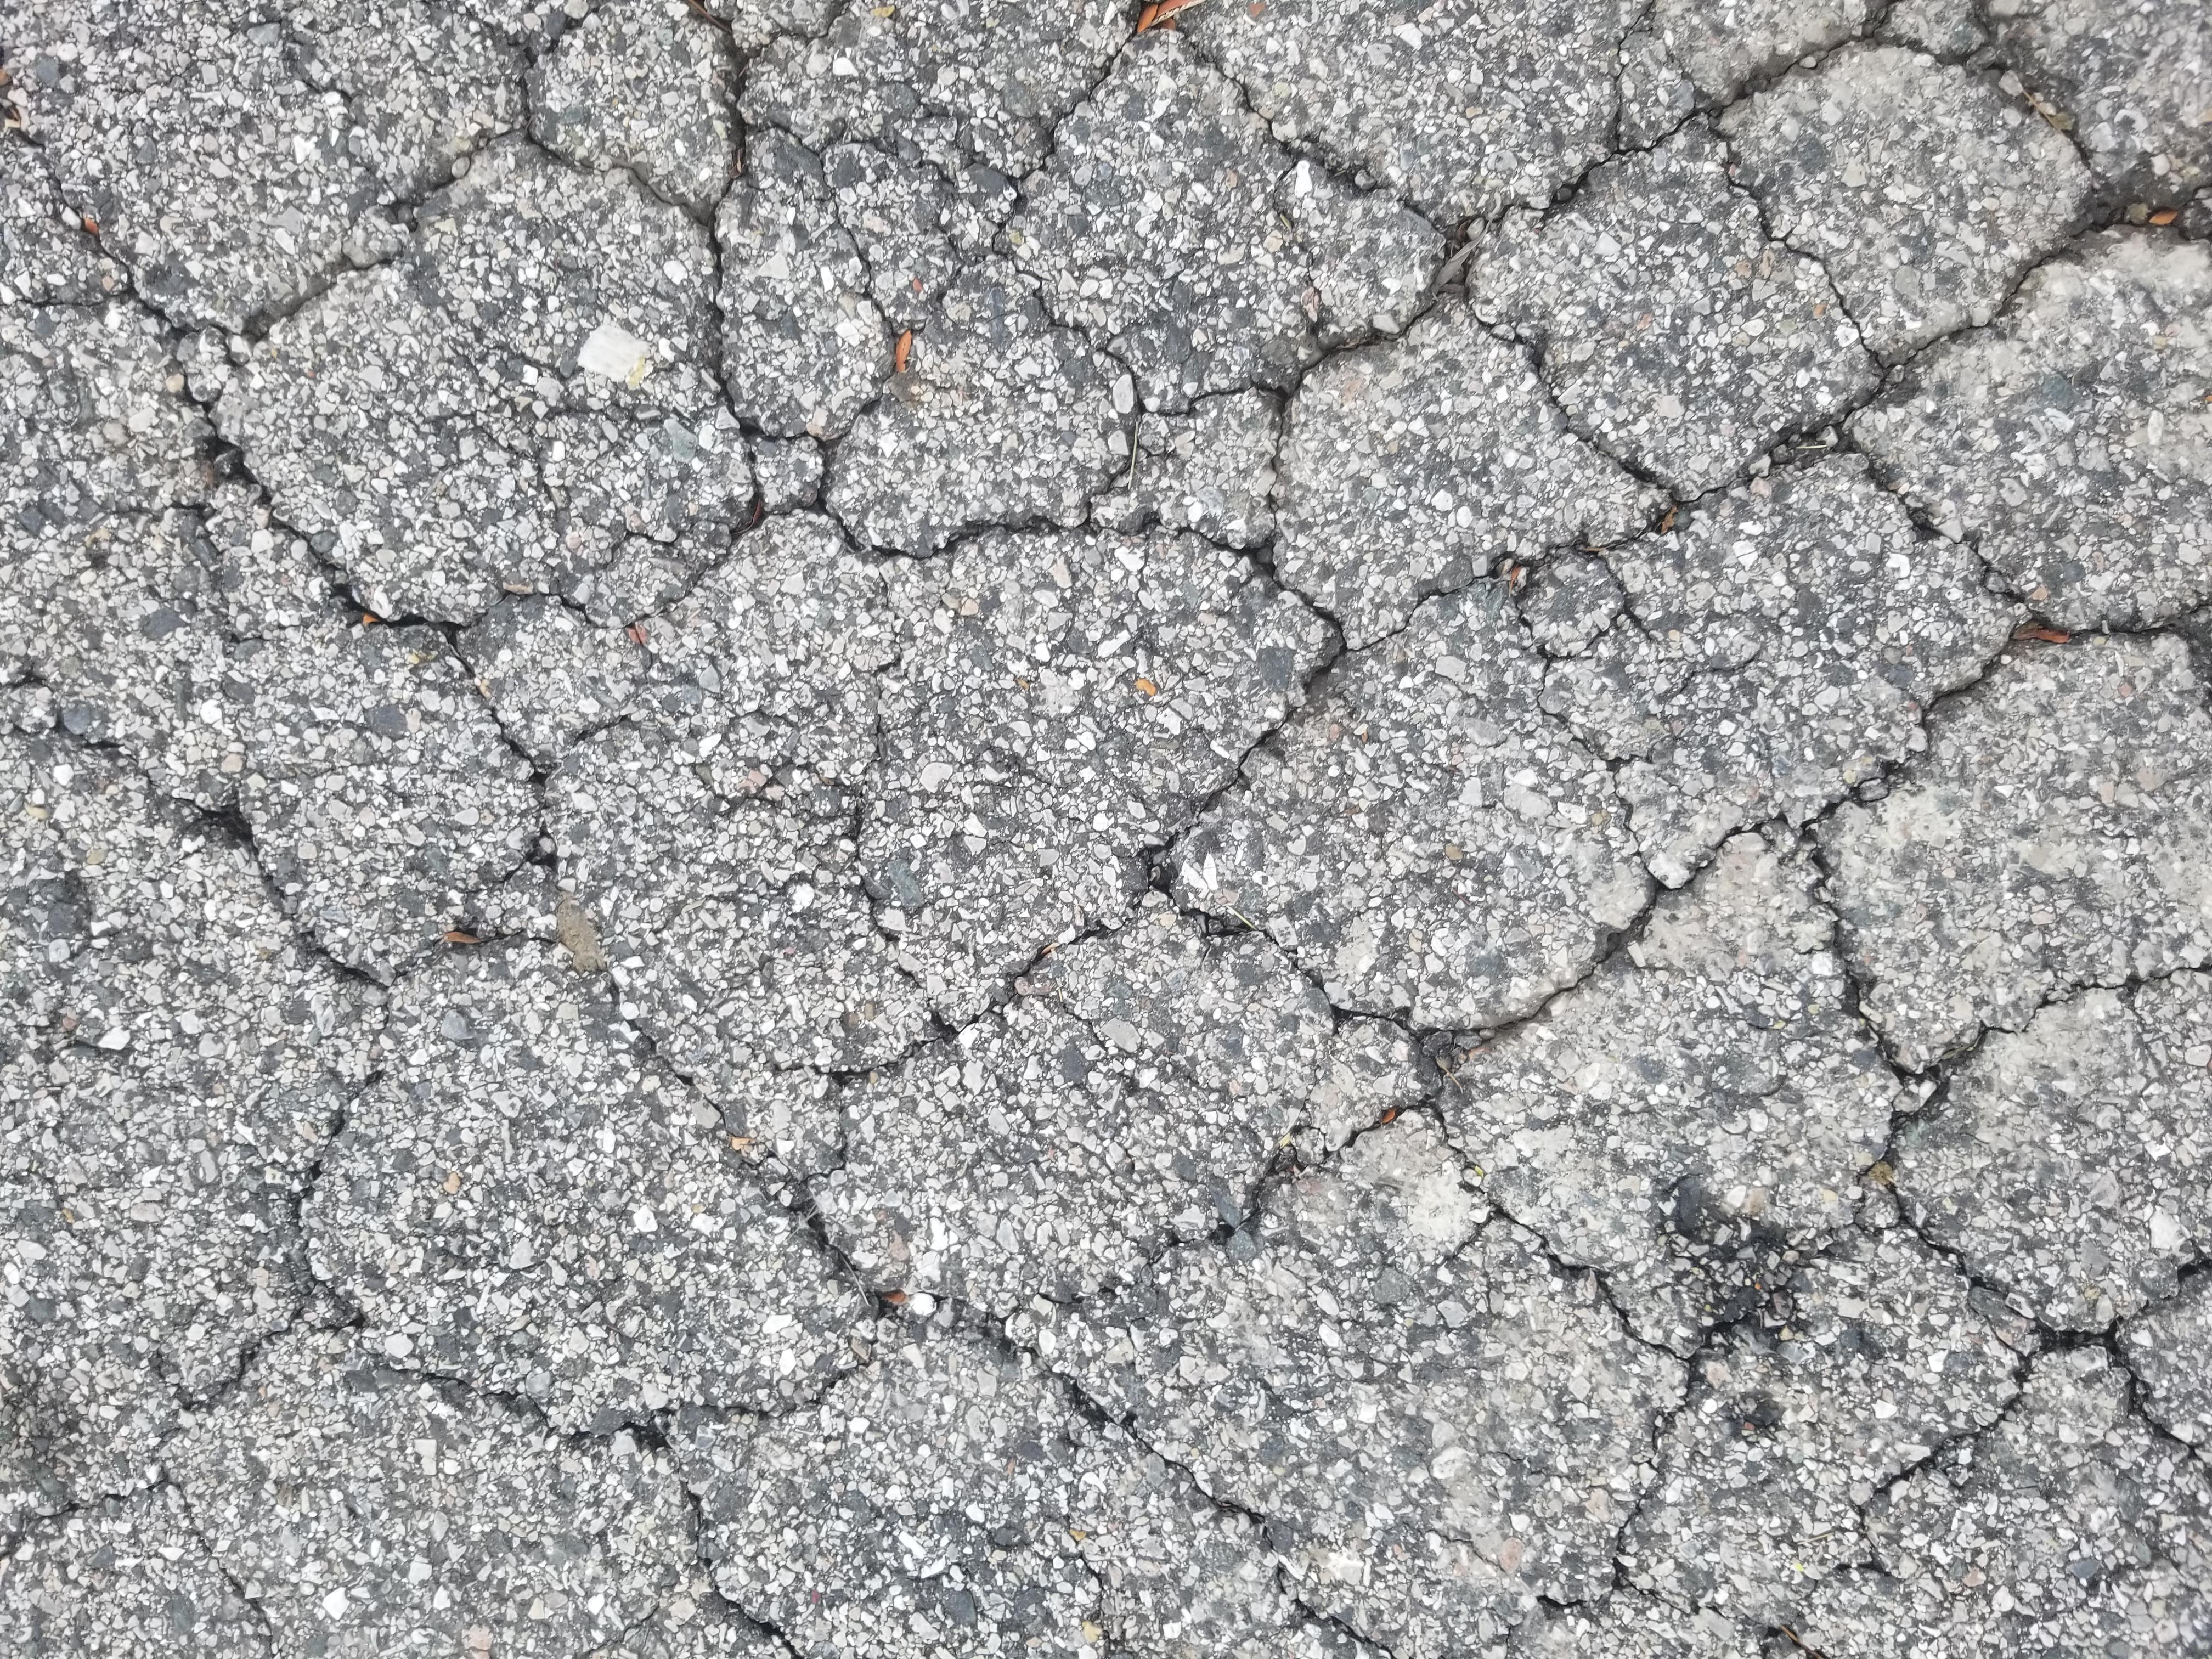alligator-crack: (2, 0, 2212, 1659)
